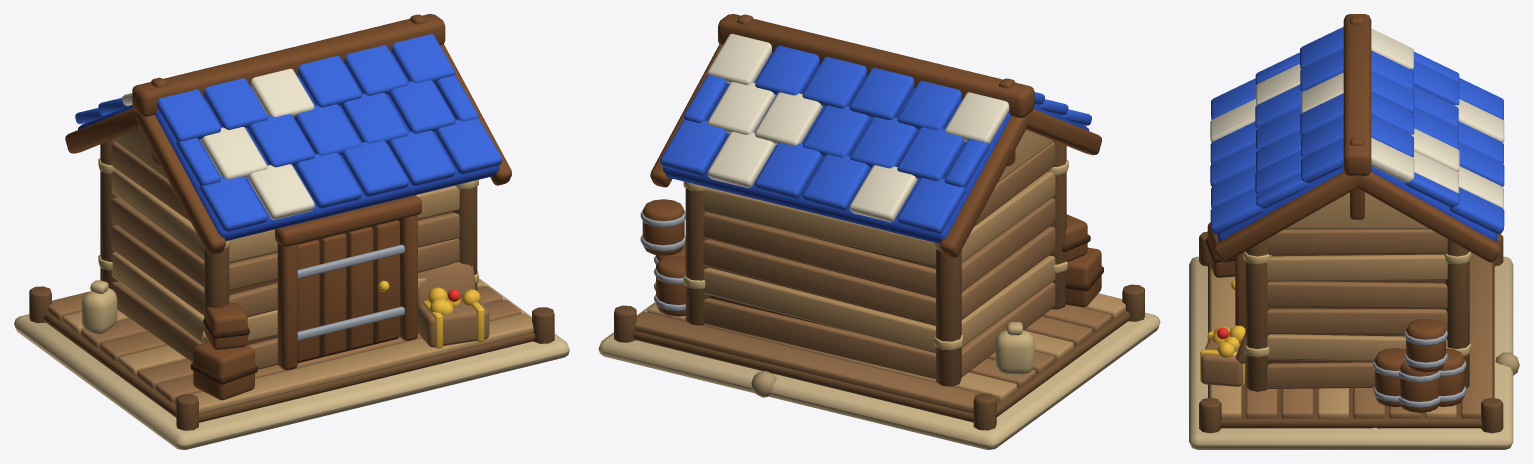
Rendered from Storehouse.glb.
3 renders of one model, left to right at view 1: azimuth 30°, elevation 25°; view 2: azimuth 150°, elevation 25°; view 3: azimuth 270°, elevation 25°, orthographic. The views are drawn at different scales.
Parts seen in each view (by area): view 1: Storehouse; view 2: Storehouse; view 3: Storehouse.
Part boxes in pixels (x1,y1,x2,y2): Storehouse: (14, 14, 569, 449); Storehouse: (598, 14, 1160, 449); Storehouse: (1189, 14, 1519, 449).
Bounding box in the file's own units: 3.5 × 2.51 × 2.65.
